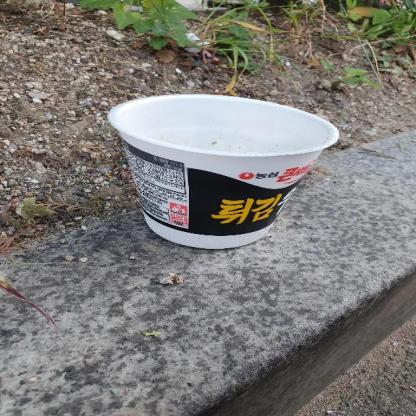Glass Cup: (107, 92, 340, 251), (108, 94, 339, 249)
